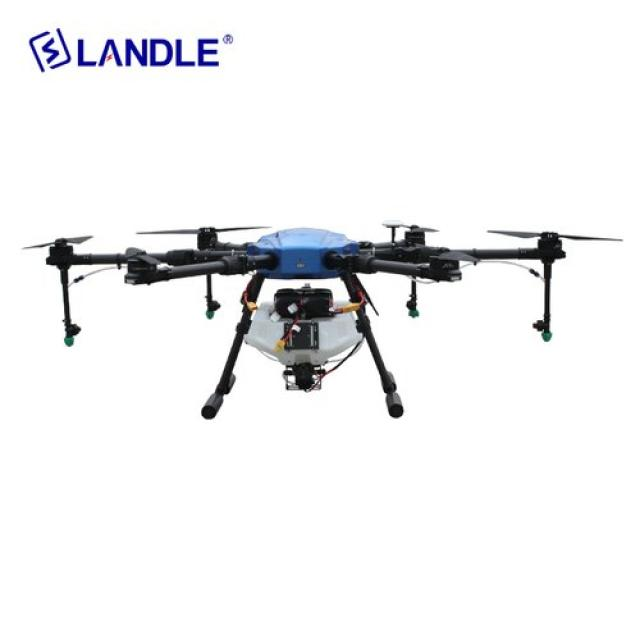drone: (16, 198, 589, 454)
